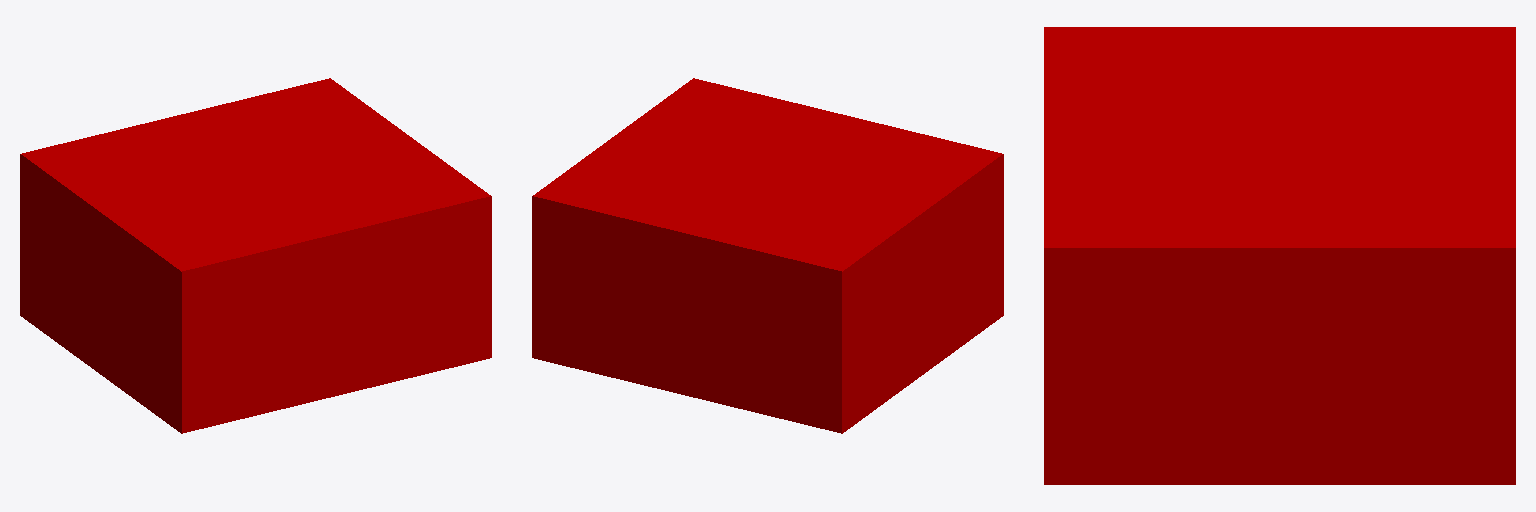
robot.urdf — camera_mount:
<?xml version="1.0"?>
<robot name="camera_mount">

  <link name="base_link"></link>
    
  <joint name="joint0" type="continuous">
    <parent link="base_link"/>
    <child link="link1"/>
    <origin xyz="0.05 0 0.088" rpy="0 0 0" />
    <axis xyz="0 0 1" />
    <limit effort="0.5" velocity="6.0" />
  </joint>

  <link name="link1"></link>

  <joint name="joint1" type="continuous">
    <parent link="link1"/>
    <child link="camera_link"/>
    <origin xyz="0 0 0.086" rpy="0 0 0" />
    <axis xyz="0 1 0" />
    <limit effort="0.5" velocity="6.0" />
    <friction friction="0.01" />
    <dynamics damping="0.4" />
  </joint>

   <link name="camera_link">
    <visual>
      <origin xyz="0 0 0.0125" rpy="0 0 0" />
      <geometry>
        <box size="0.05 0.045 0.025" />
      </geometry>
      <material name="red">
        <color rgba=".8 0 0 1" />
      </material>
    </visual>
  </link>

</robot>

--- Render facts (derived) ---
3 views of the same robot in one strip: view 1: azimuth 30°, elevation 25°; view 2: azimuth 150°, elevation 25°; view 3: azimuth 270°, elevation 25° (orthographic).
Robot: camera_mount — 3 links, 2 joints (2 continuous); root link base_link; default pose: all joints at 0.
Links seen in each view (by area): view 1: camera_link; view 2: camera_link; view 3: camera_link.
Boxes of the visible links, x1=… form: camera_link: x1=20, y1=78, x2=491, y2=433; camera_link: x1=532, y1=78, x2=1003, y2=433; camera_link: x1=1044, y1=27, x2=1515, y2=484.
Bounding box of the posed robot: 0.05 × 0.045 × 0.025 m (x, y, z).
Geometry: primitives only (box / cylinder / sphere), no mesh files.